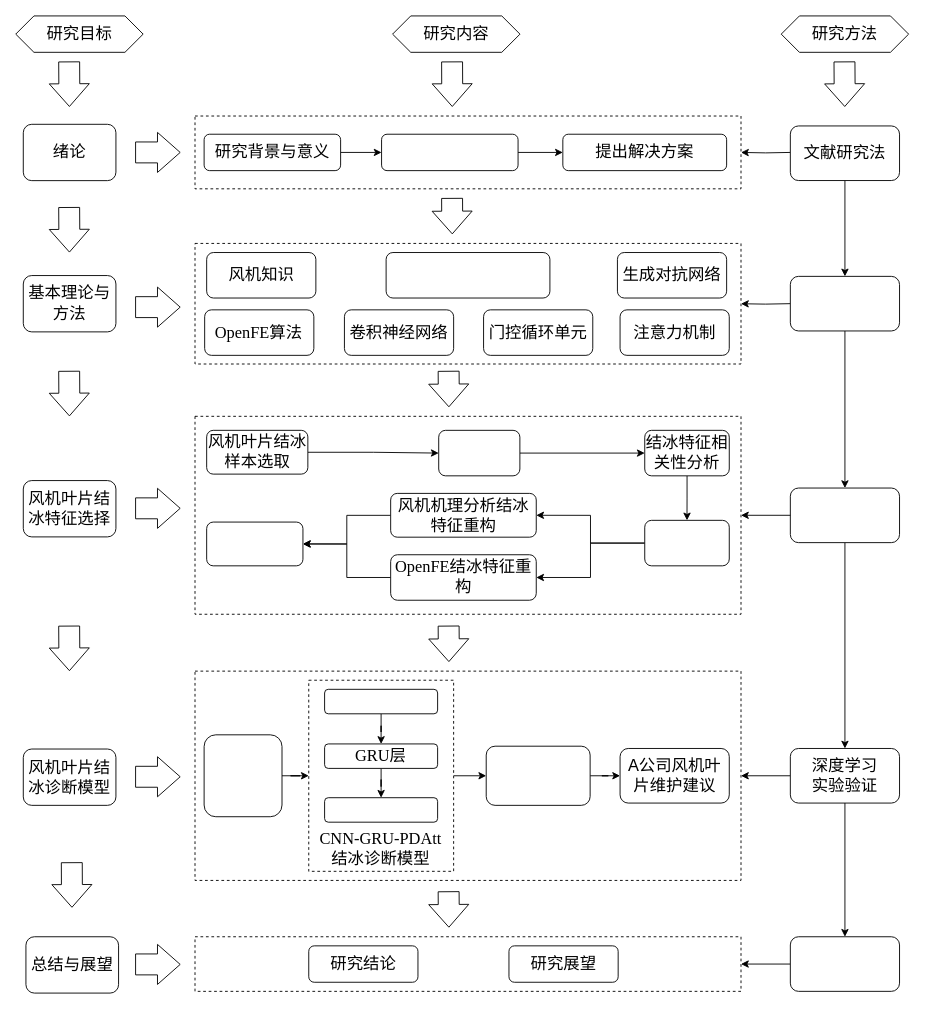
The diagram is 925 pixels wide and 1009 high, and some of its shapes have lost their labels. Here are the shapes that lost their labels. From the top down, the box of each, then its label:
(381, 133, 518, 171): 国内外研究现状
(385, 252, 550, 298): 结冰危害及影响因素
(789, 275, 900, 331): 理论归纳法
(438, 429, 520, 476): 归一化
(789, 487, 900, 543): 特征分析
(206, 521, 303, 566): 选择的结冰特征
(644, 519, 729, 566): 结冰特征重要性分析
(324, 688, 438, 714): CNN 层
(203, 734, 282, 817): 改进 GAN 的样本均衡化
(485, 745, 590, 805): 实验结果分析
(324, 797, 438, 822): PDAtt 层
(789, 936, 900, 991): 归纳演绎法
